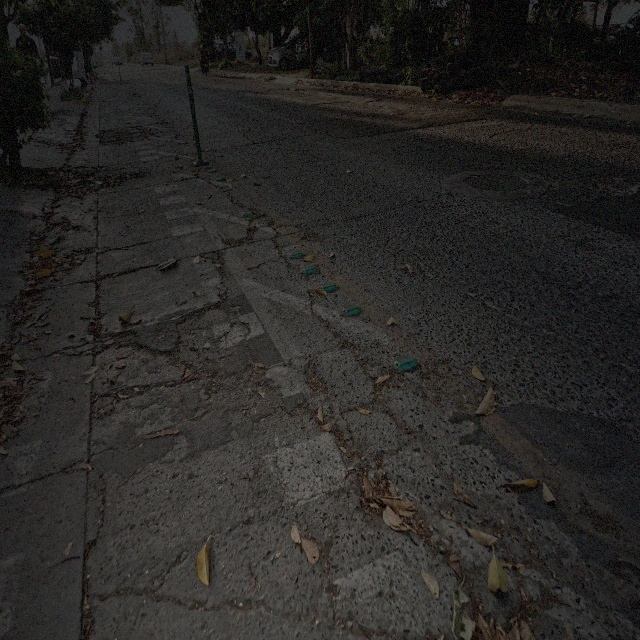pothole: (588, 172, 638, 204), (74, 167, 150, 186), (540, 173, 562, 206)
